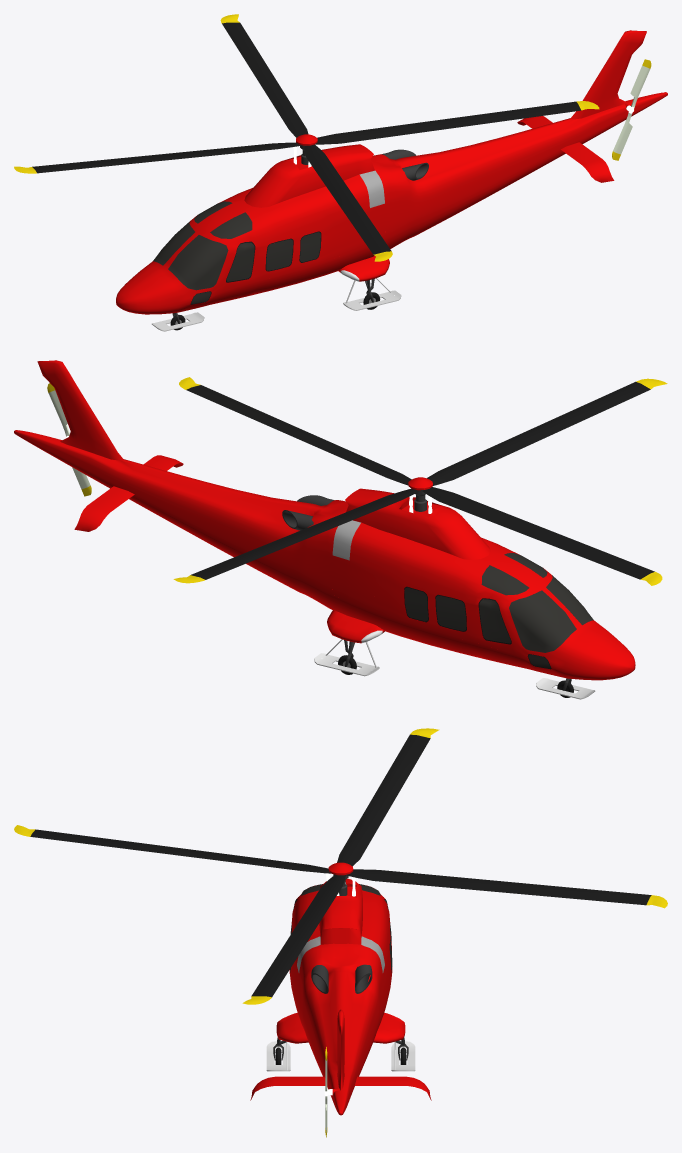
File: new_helicopter.gltf
3 renders of one model, top to bottom at view 1: azimuth 30°, elevation 25°; view 2: azimuth 150°, elevation 25°; view 3: azimuth 270°, elevation 25°, orthographic. The views are drawn at different scales.
Visible parts, largest first — view 1: Cube, Cylinder.003, Cube.001, Cylinder.002, Cube.004, Cylinder, Cube.007; view 2: Cube, Cylinder.003, Cube.001, Cube.004, Cylinder, Cylinder.002, Cube.007, Cube.006, Cylinder.001; view 3: Cube, Cylinder.003, Cube.004, Cube.001, Cube.007, Cylinder.
Boxes of the visible parts, x1=… form: Cube: x1=116, y1=30, x2=667, y2=314; Cylinder.003: x1=14, y1=14, x2=599, y2=261; Cube.001: x1=517, y1=116, x2=614, y2=182; Cylinder.002: x1=612, y1=59, x2=651, y2=160; Cube.004: x1=338, y1=256, x2=389, y2=281; Cylinder: x1=382, y1=149, x2=428, y2=180; Cube.007: x1=343, y1=290, x2=401, y2=310; Cube: x1=14, y1=360, x2=635, y2=680; Cylinder.003: x1=173, y1=377, x2=667, y2=585; Cube.001: x1=74, y1=455, x2=183, y2=531; Cube.004: x1=327, y1=610, x2=384, y2=643; Cylinder: x1=282, y1=495, x2=334, y2=530; Cylinder.002: x1=47, y1=383, x2=91, y2=496; Cube.007: x1=314, y1=653, x2=379, y2=676; Cube.006: x1=536, y1=678, x2=595, y2=699; Cylinder.001: x1=408, y1=477, x2=432, y2=511; Cube: x1=289, y1=878, x2=392, y2=1115; Cylinder.003: x1=14, y1=728, x2=667, y2=1004; Cube.004: x1=276, y1=1012, x2=405, y2=1043; Cube.001: x1=250, y1=1076, x2=431, y2=1100; Cube.007: x1=266, y1=1041, x2=415, y2=1071; Cylinder: x1=311, y1=964, x2=372, y2=993.
Size of what is drawn, in the model's own units: 10.39 by 3.06 by 8.54.
